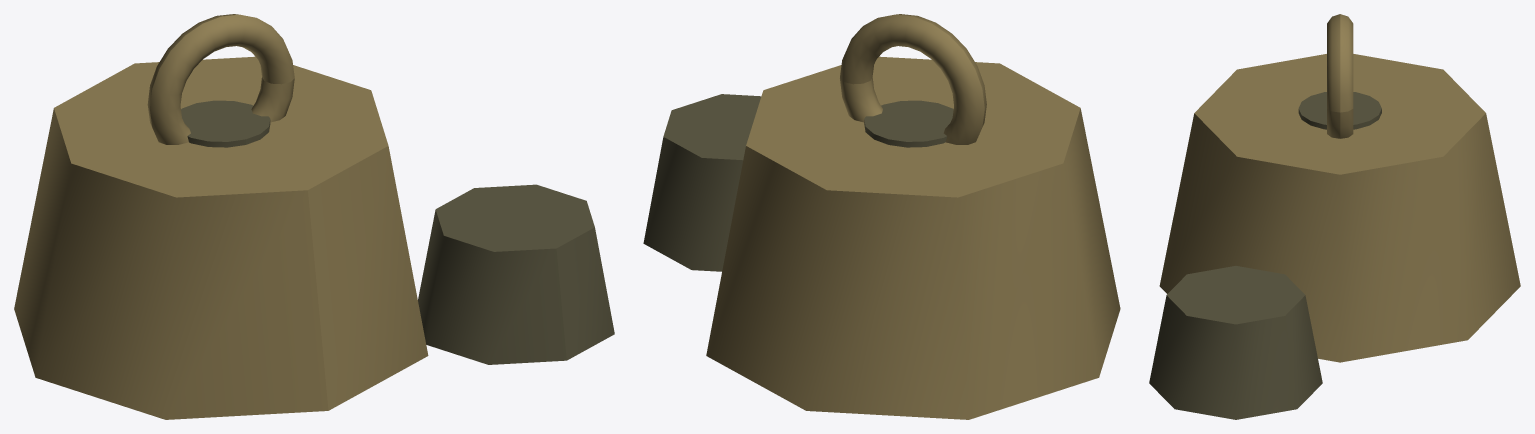
3 views of the same model, side by side, from view 1: azimuth 30°, elevation 25°; view 2: azimuth 150°, elevation 25°; view 3: azimuth 270°, elevation 25° (orthographic). The views are drawn at different scales.
Visible parts, largest first — view 1: OBJ-015 — DEMO NON_VALIDE; view 2: OBJ-015 — DEMO NON_VALIDE; view 3: OBJ-015 — DEMO NON_VALIDE.
Part boxes in pixels (x1=…): OBJ-015 — DEMO NON_VALIDE: x1=14, y1=14, x2=614, y2=419; OBJ-015 — DEMO NON_VALIDE: x1=643, y1=14, x2=1120, y2=419; OBJ-015 — DEMO NON_VALIDE: x1=1149, y1=14, x2=1520, y2=419.
Size of the model in its own units: 2 by 1.2 by 1.51.
